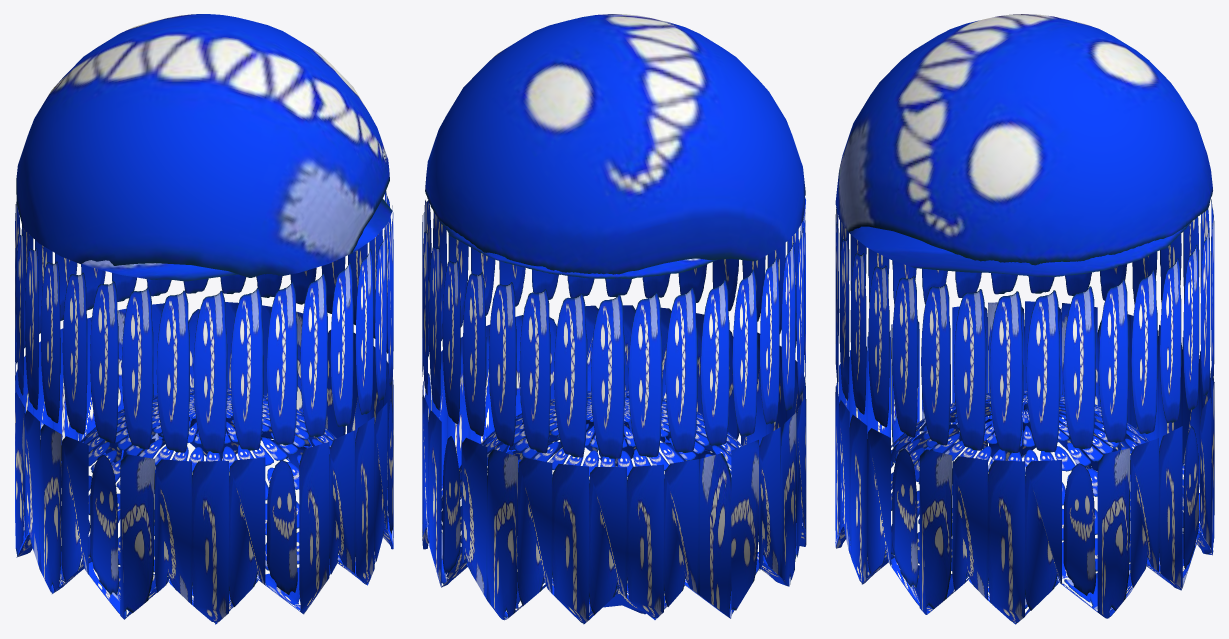
Rendered from Hackman Ghost.fbx.
The picture shows the model from 3 angles, left to right: view 1: azimuth 30°, elevation 25°; view 2: azimuth 150°, elevation 25°; view 3: azimuth 270°, elevation 25°; orthographic projection.
Parts seen in each view (by area): view 1: Sphere; view 2: Sphere; view 3: Sphere.
Boxes of the visible parts, <box> form: Sphere: <box>15,14,393,624</box>; Sphere: <box>422,14,806,624</box>; Sphere: <box>835,14,1214,624</box>.
Bounding box in the file's own units: 200 × 300 × 200.
